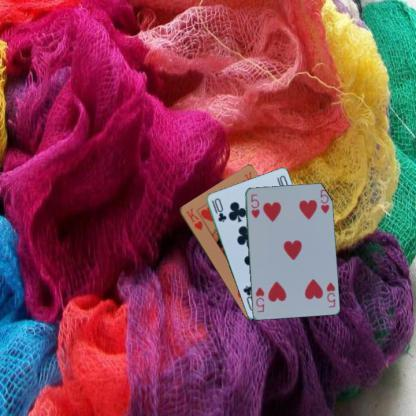10c: (209, 196, 228, 223)
5h: (324, 280, 336, 309), (248, 191, 260, 219)
Kh: (184, 205, 204, 231)
